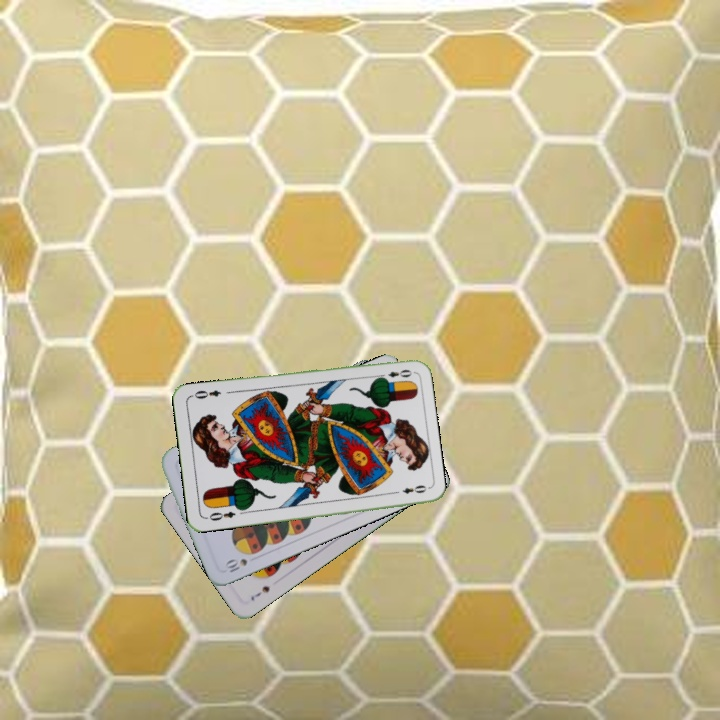EO: (374, 365, 415, 383), (202, 507, 238, 523)
S10: (221, 554, 250, 575)
S7: (246, 582, 272, 603)
